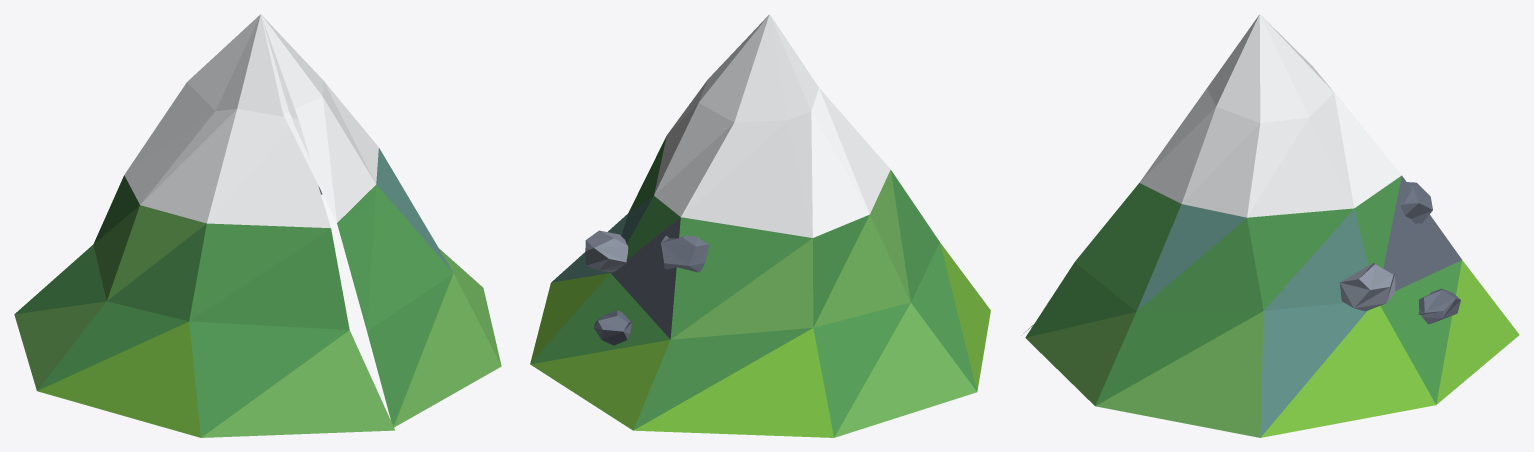
The model's file is montana_nevada_v3.glb.
3 views of the same model, side by side, from view 1: azimuth 30°, elevation 25°; view 2: azimuth 150°, elevation 25°; view 3: azimuth 270°, elevation 25° (orthographic). The views are drawn at different scales.
Visible parts, largest first — view 1: montana_montana, montana_nieve, montana_montana_claro, montana_pasto, montana_montana_azul; view 2: montana_montana, montana_nieve, montana_pasto, montana_montana_claro, montana_roca_oscura, montana_saliente_2, montana_saliente_3, montana_montana_azul, montana_saliente_1; view 3: montana_montana, montana_nieve, montana_montana_claro, montana_pasto, montana_montana_azul, montana_roca_oscura, montana_saliente_2, montana_saliente_1, montana_saliente_3.
Boxes of the visible parts, box(x1,y1,x2,y2) form: montana_montana: box(15, 175, 453, 437); montana_nieve: box(124, 14, 378, 228); montana_montana_claro: box(14, 205, 501, 437); montana_pasto: box(37, 322, 200, 437); montana_montana_azul: box(376, 148, 452, 271); montana_montana: box(530, 136, 977, 437); montana_nieve: box(654, 14, 890, 237); montana_pasto: box(530, 242, 990, 437); montana_montana_claro: box(671, 170, 976, 437); montana_roca_oscura: box(611, 217, 680, 339); montana_saliente_2: box(585, 230, 628, 272); montana_saliente_3: box(661, 235, 709, 272); montana_montana_azul: box(551, 196, 653, 282); montana_saliente_1: box(594, 310, 632, 345); montana_montana: box(1025, 175, 1462, 405); montana_nieve: box(1139, 14, 1401, 217); montana_montana_claro: box(1021, 311, 1263, 437); montana_pasto: box(1261, 260, 1519, 437); montana_montana_azul: box(1136, 204, 1368, 437); montana_roca_oscura: box(1383, 176, 1461, 290); montana_saliente_2: box(1339, 263, 1395, 311); montana_saliente_1: box(1418, 288, 1460, 324); montana_saliente_3: box(1400, 182, 1432, 223).
Size of the model in its own units: 36.52 by 26 by 37.03.
